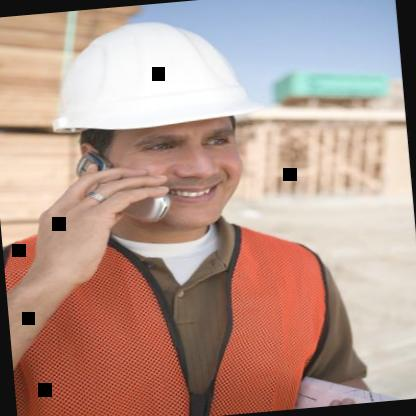helmet: (12, 0, 313, 247)
